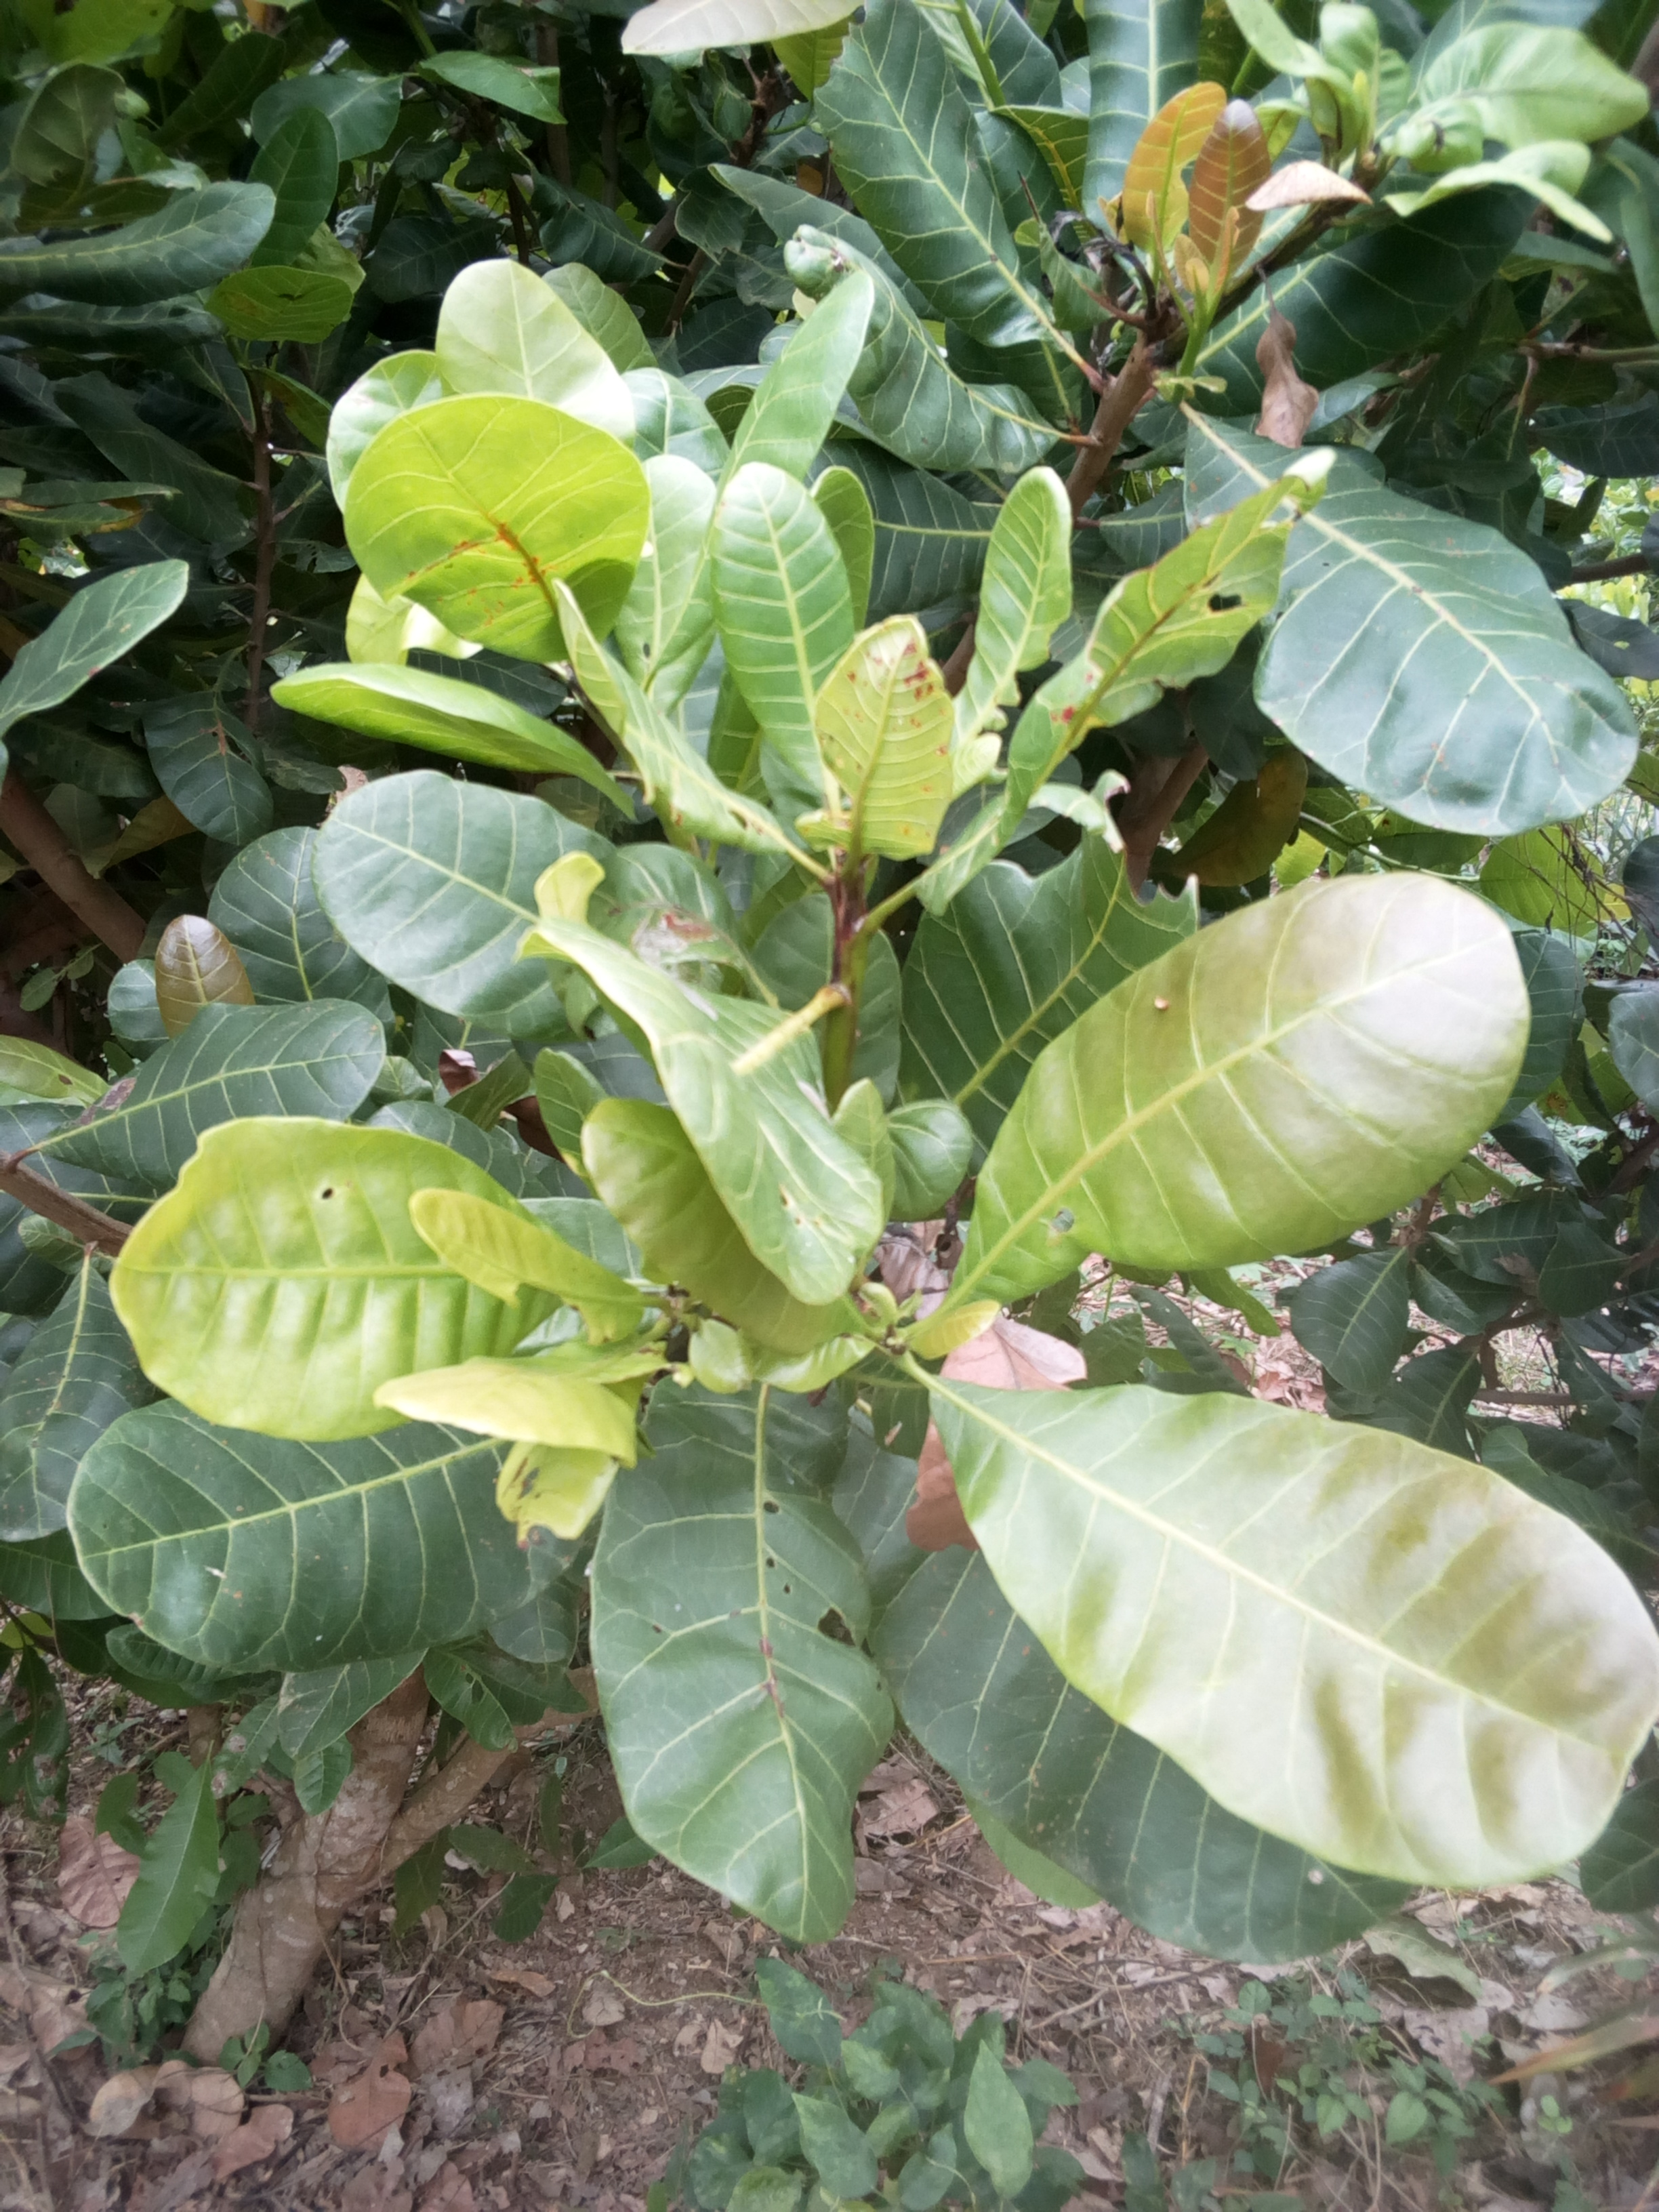Anoplonemis curvipes: (965, 479, 1328, 876)
